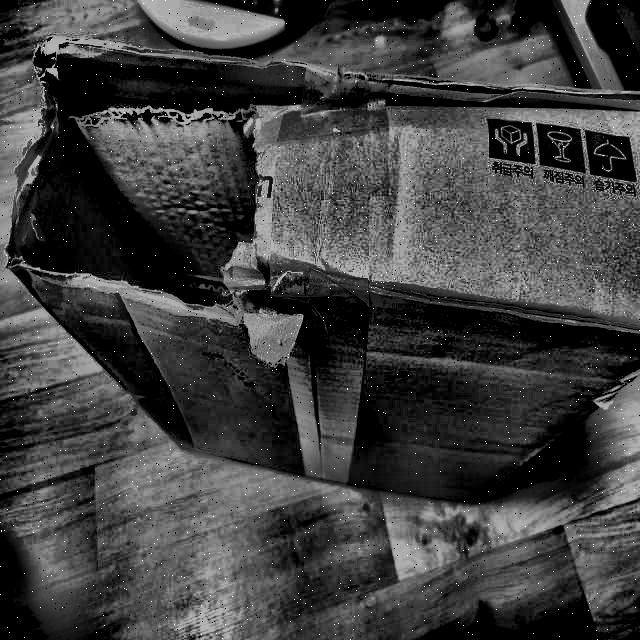box: (0, 25, 639, 516)
hole: (26, 47, 296, 314)
